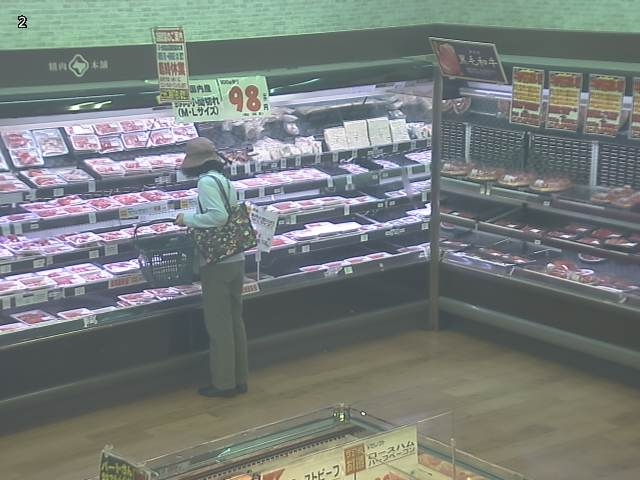meat: (0, 284, 200, 335), (0, 186, 198, 225), (269, 204, 430, 250), (0, 222, 182, 262), (0, 258, 141, 296), (67, 116, 199, 154), (86, 151, 185, 177), (2, 128, 67, 167), (262, 194, 376, 216), (235, 166, 330, 189), (300, 252, 393, 273), (20, 165, 92, 186), (0, 172, 28, 191)
meatless: (200, 103, 426, 168), (43, 128, 185, 179), (0, 283, 155, 324), (243, 242, 401, 282), (331, 202, 424, 224), (78, 180, 195, 197), (339, 182, 402, 199), (93, 250, 139, 263), (316, 165, 351, 176)
